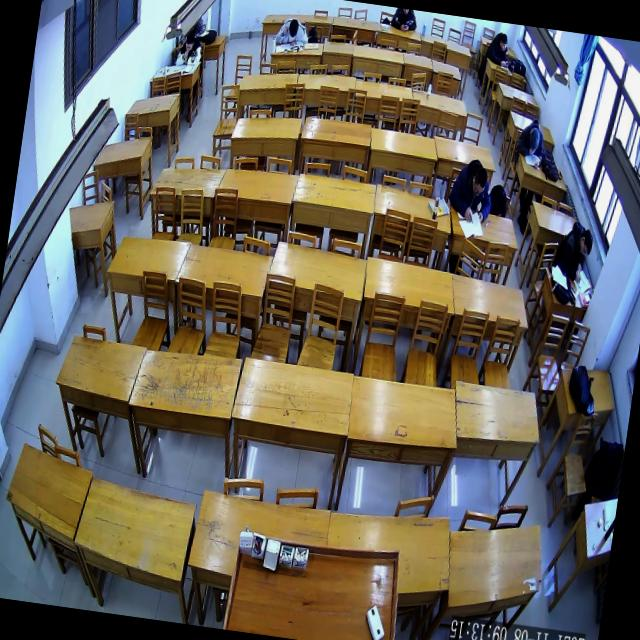bow: (514, 117, 548, 169), (275, 16, 311, 48), (486, 32, 514, 68)
down: (471, 166, 488, 196), (578, 228, 594, 257), (528, 126, 542, 150), (184, 32, 196, 52), (288, 19, 300, 39), (498, 33, 508, 52)
sit: (446, 156, 497, 226), (554, 220, 595, 285), (174, 30, 207, 70)
